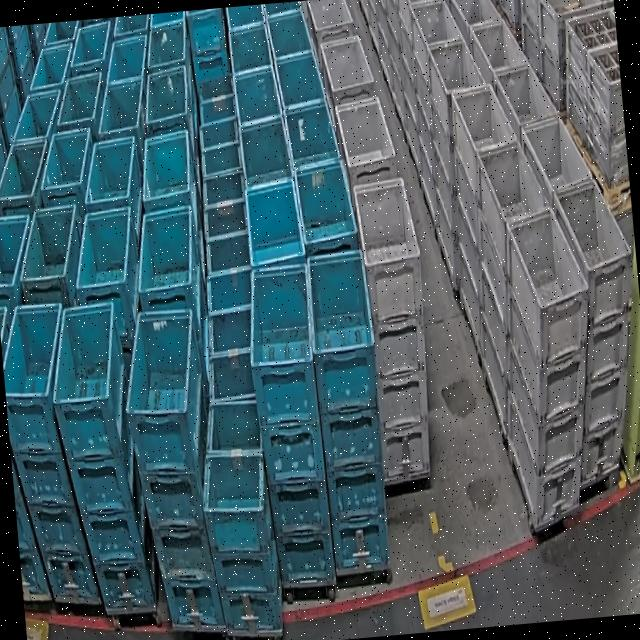4G: (488, 206, 608, 532), (549, 174, 640, 489), (352, 180, 439, 480)
B4: (44, 290, 159, 620), (118, 308, 226, 638), (0, 301, 102, 611), (242, 262, 336, 590), (304, 248, 394, 572)
B8: (194, 396, 282, 636)
